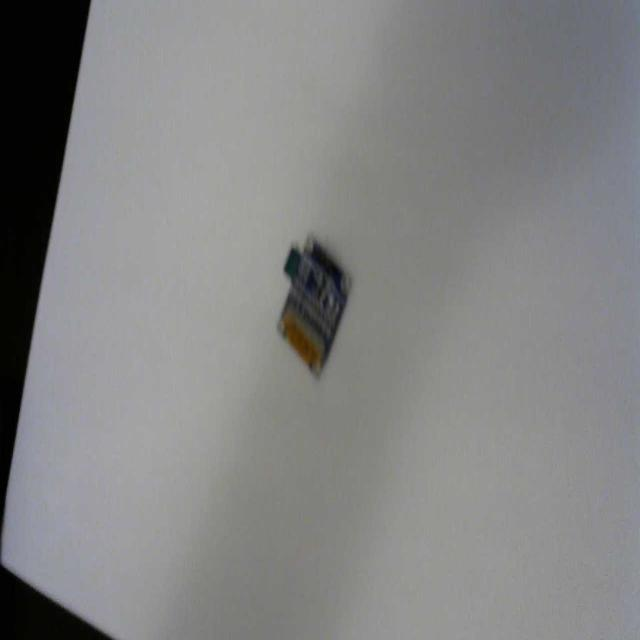oled: (272, 225, 354, 379)
